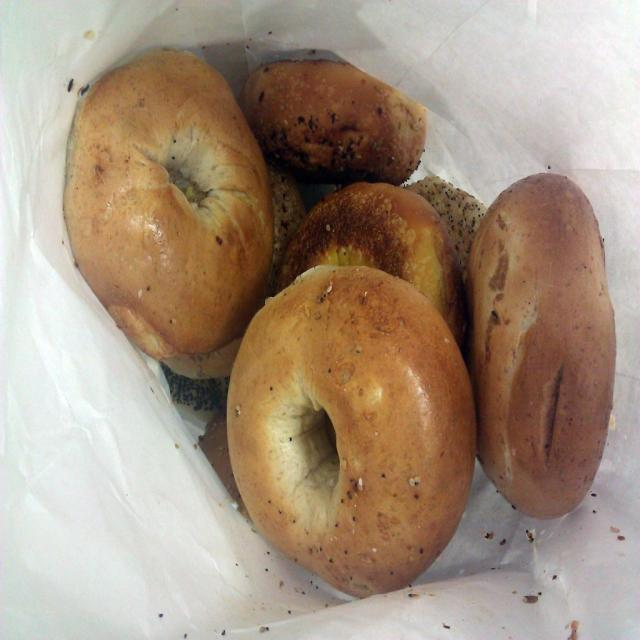Bagel: (61, 54, 617, 598)
